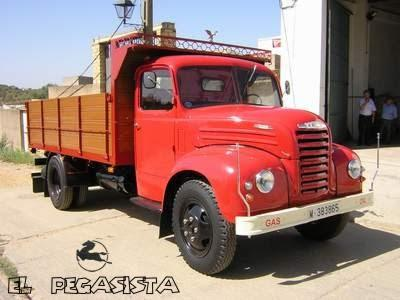truck: (23, 32, 381, 276)
